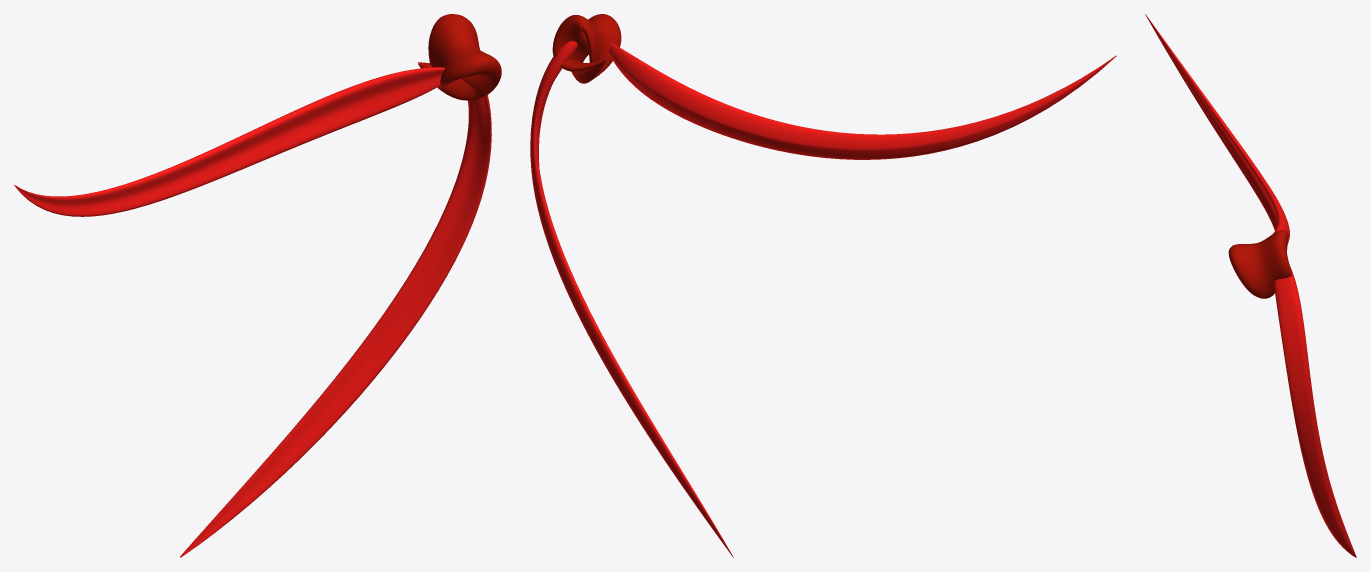
File: Ribbon.fbx
3 views of the same model, side by side, from view 1: azimuth 30°, elevation 25°; view 2: azimuth 150°, elevation 25°; view 3: azimuth 270°, elevation 25° (orthographic). The views are drawn at different scales.
Visible parts, largest first — view 1: Ribbon; view 2: Ribbon; view 3: Ribbon.
Boxes of the visible parts, left/top/right/bottom form: Ribbon: left=14, top=14, right=501, bottom=557; Ribbon: left=530, top=14, right=1116, bottom=557; Ribbon: left=1145, top=14, right=1356, bottom=557.
Size of the model in its own units: 123 by 113 by 50.62.
